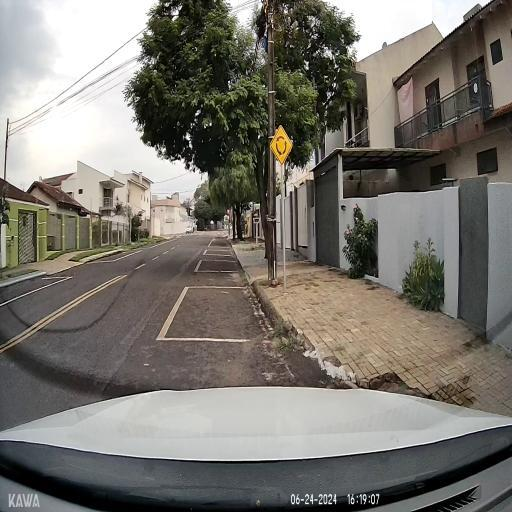A-12: (270, 124, 292, 165)
